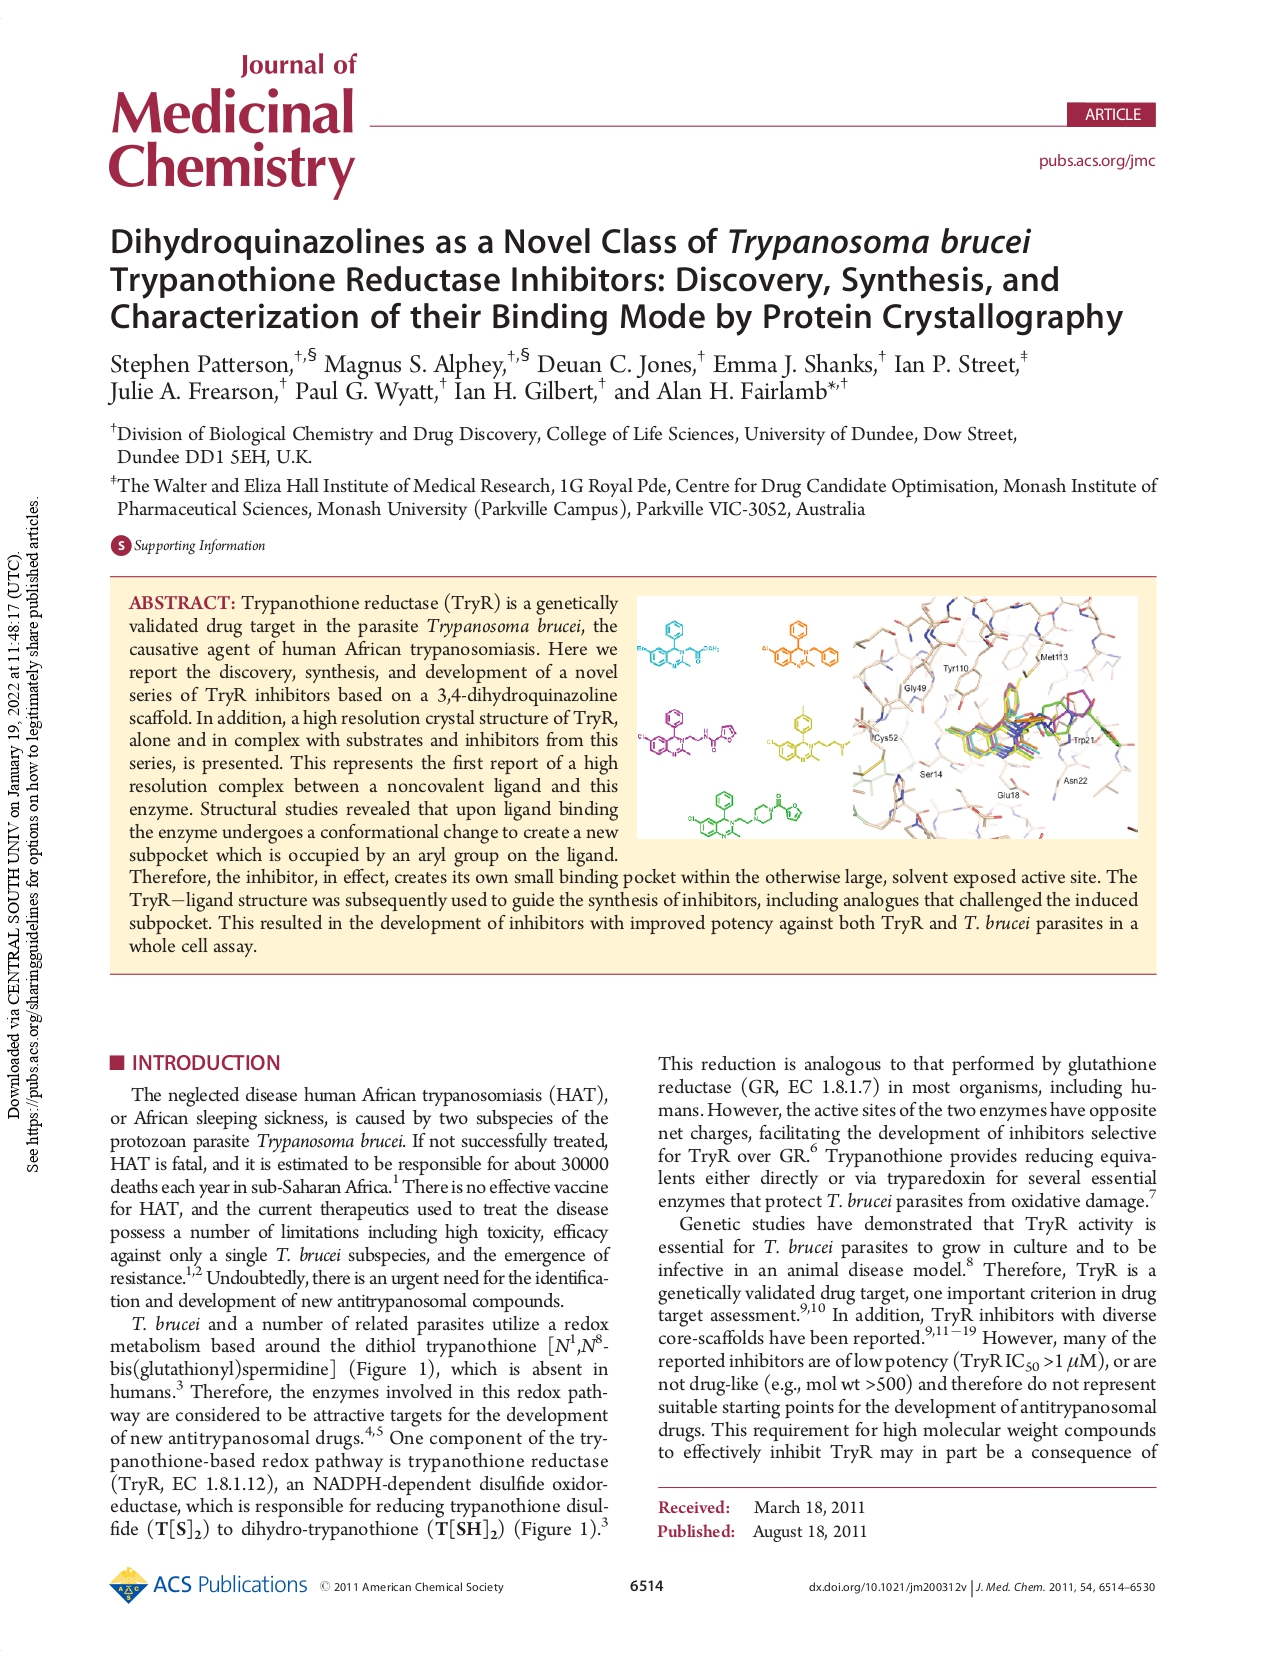exist_molecular: (686, 790, 803, 838), (765, 702, 852, 763), (637, 707, 737, 758), (636, 618, 721, 672), (758, 618, 842, 672)
